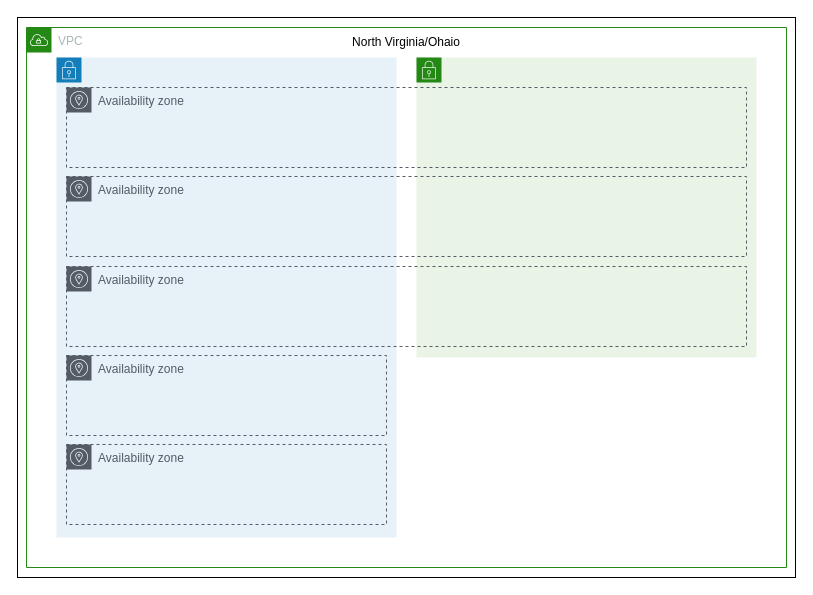
Some shapes in this 813 by 595 pixel diagram are drawn without their labels. Here are the shapes that lost their labels. From the top down, the box of each, then its label:
(416, 56, 756, 358): Public subnet
(56, 56, 396, 538): Private subnet
